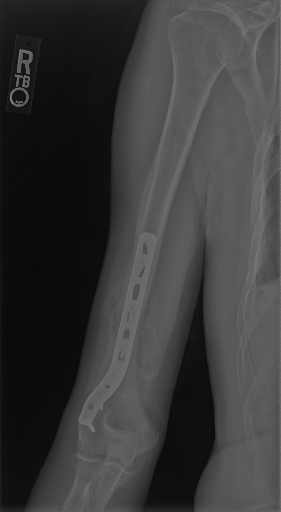implant: (77, 227, 159, 433)
